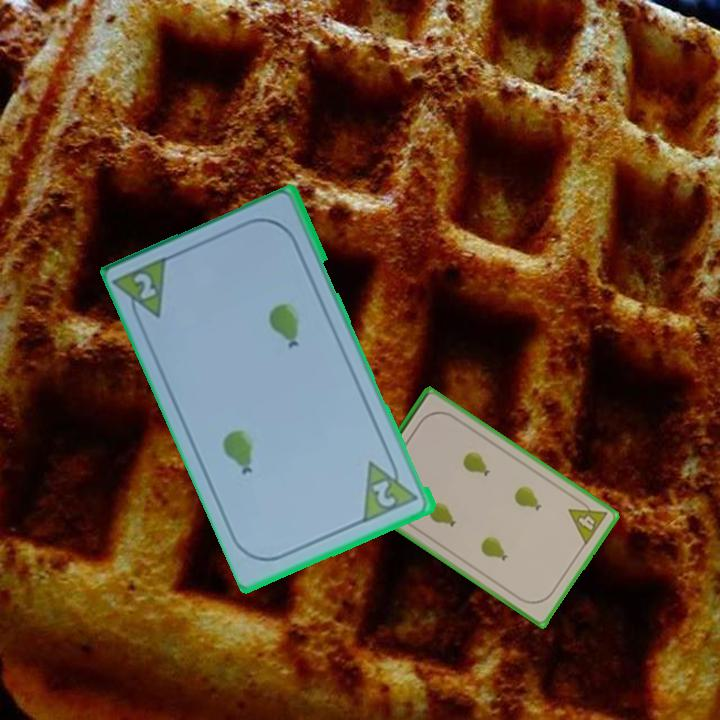2p: (369, 477, 399, 511), (131, 269, 161, 303)
4p: (565, 494, 611, 548)
